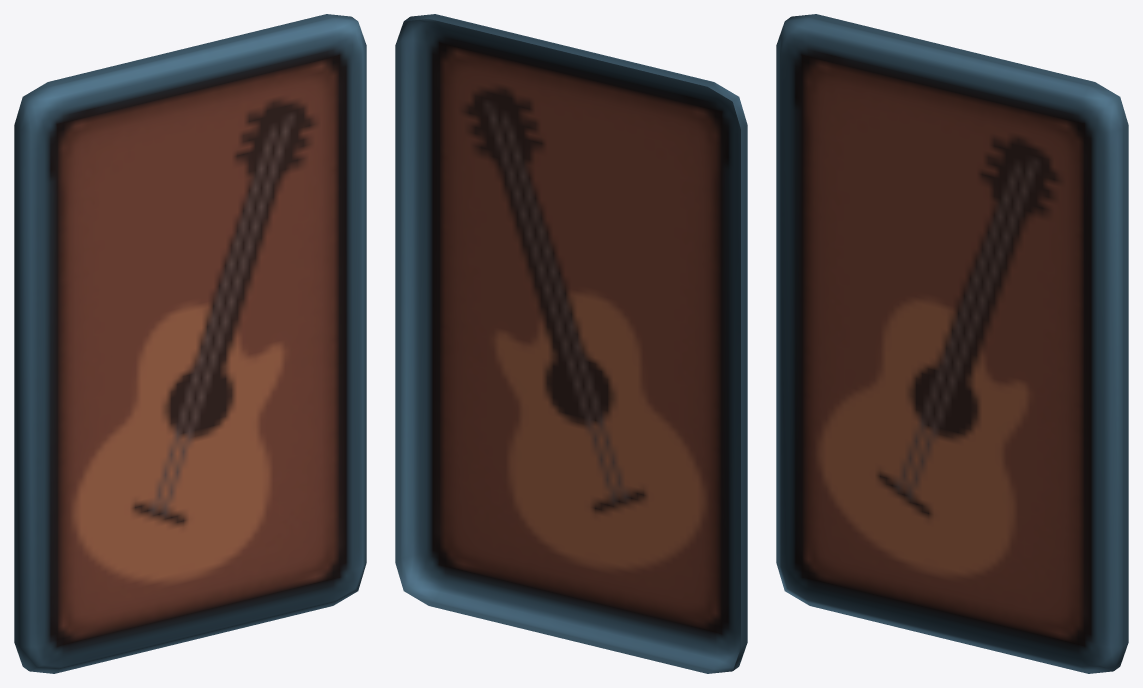
The model's file is StudentLounge_Item_Mural.FBX.
3 renders of one model, left to right at view 1: azimuth 30°, elevation 25°; view 2: azimuth 150°, elevation 25°; view 3: azimuth 330°, elevation 25°, orthographic.
Visible parts, largest first — view 1: StudentLounge_Item_Mural; view 2: StudentLounge_Item_Mural; view 3: StudentLounge_Item_Mural.
Boxes of the visible parts, box(x1,y1,x2,y2) form: StudentLounge_Item_Mural: box(14, 14, 366, 673); StudentLounge_Item_Mural: box(395, 14, 747, 673); StudentLounge_Item_Mural: box(776, 14, 1128, 673).
Bounding box in the file's own units: 0.7564 × 1.23 × 0.0448.
Materials: 1 (1 with a texture image).
